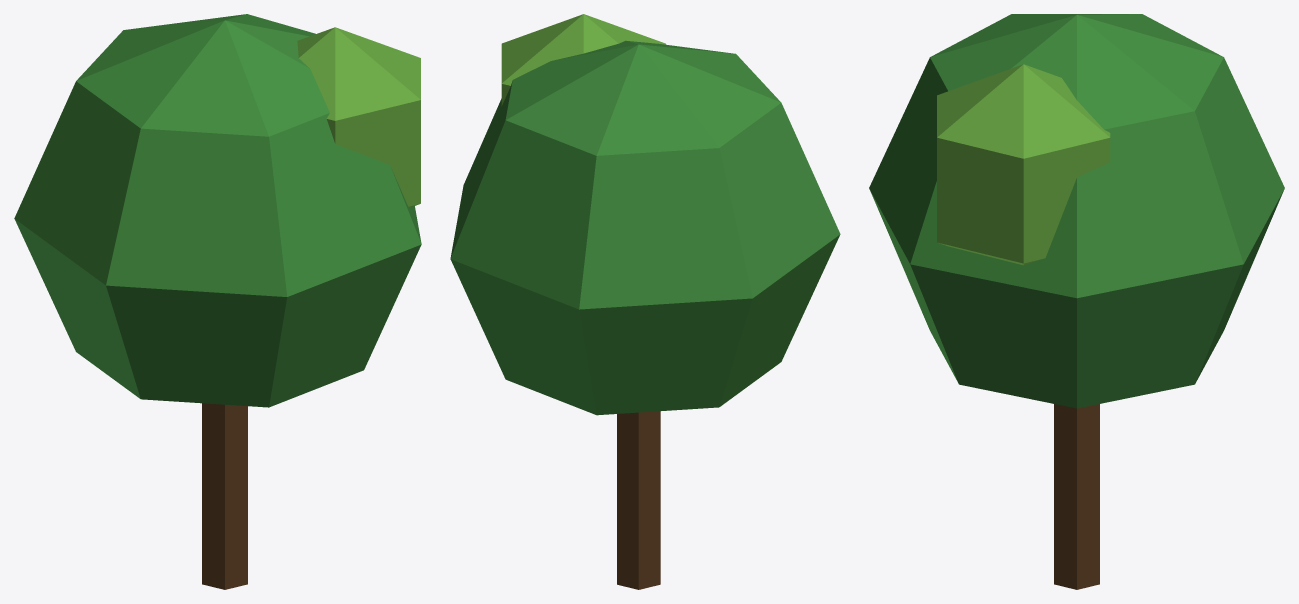
The model's file is tree_round.obj.
3 views of the same model, side by side, from view 1: azimuth 30°, elevation 25°; view 2: azimuth 150°, elevation 25°; view 3: azimuth 270°, elevation 25° (orthographic). The views are drawn at different scales.
Parts seen in each view (by area): view 1: tree_round; view 2: tree_round; view 3: tree_round.
Part boxes in pixels (box(x1,y1,x2,y2)): tree_round: box(14, 14, 421, 589); tree_round: box(450, 14, 840, 589); tree_round: box(869, 14, 1284, 589).
Bounding box in the file's own units: 4.56 × 7 × 4.68.
